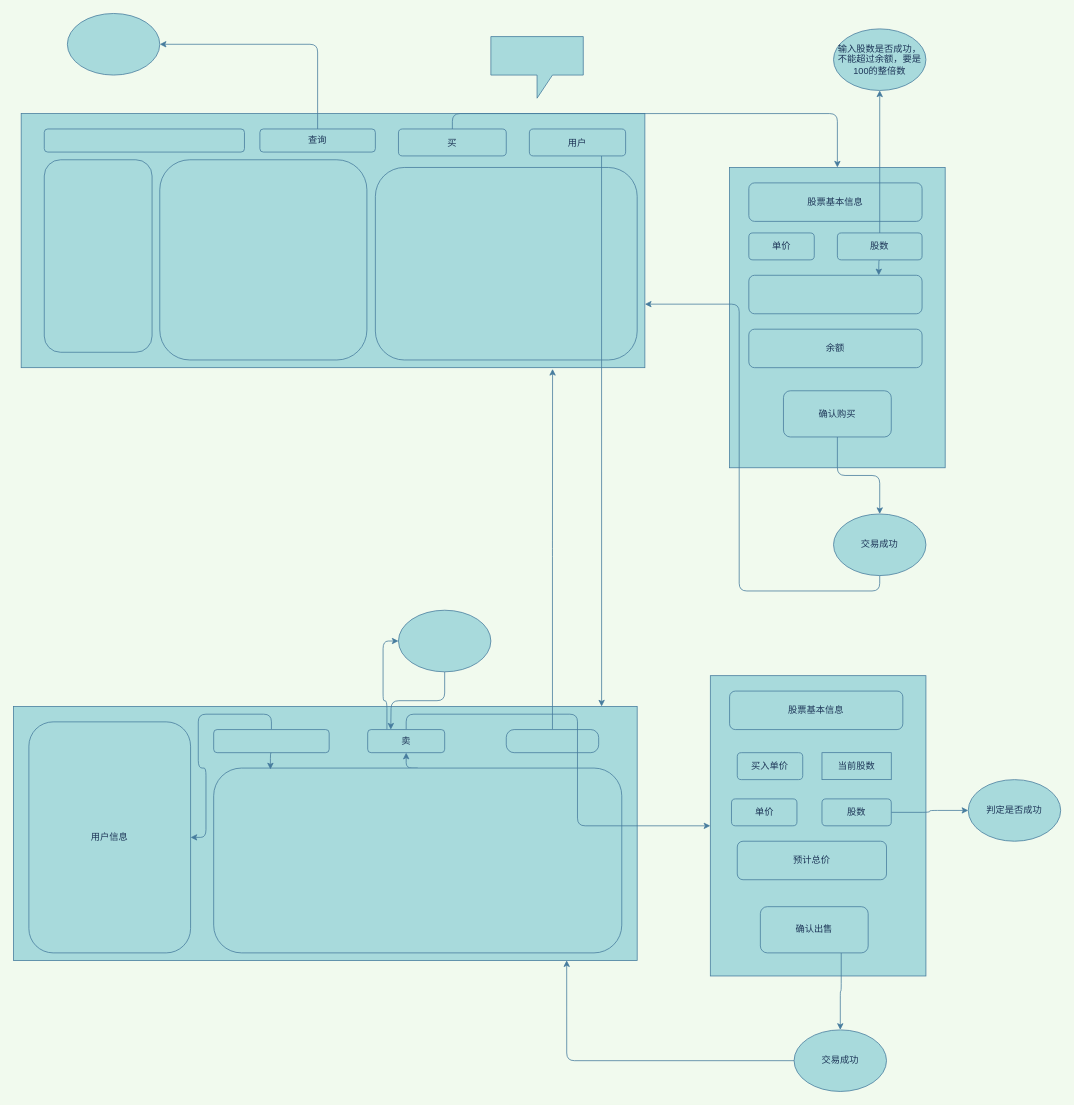
Image size: 1074x1105. Some labels were removed from this diagram. The shapes that lost their labels are listed below. From the top down, each one's box as (x1, y1, x2, y2) in pixels, then its label:
(67, 13, 160, 75): 提示有无股票
(490, 36, 583, 98): 初始状态默认股票界面，直接调用
(44, 128, 244, 152): 输入股票代码
(44, 159, 152, 352): 股票相关信息
(159, 159, 367, 360): K线图
(375, 167, 637, 360): 日线图（图片）
(748, 275, 922, 314): 预计价格
(398, 609, 491, 672): 请选择持仓股票
(213, 729, 329, 753): 更新用户信息
(506, 729, 599, 753): 主页
(213, 767, 622, 953): 持仓股票状态
